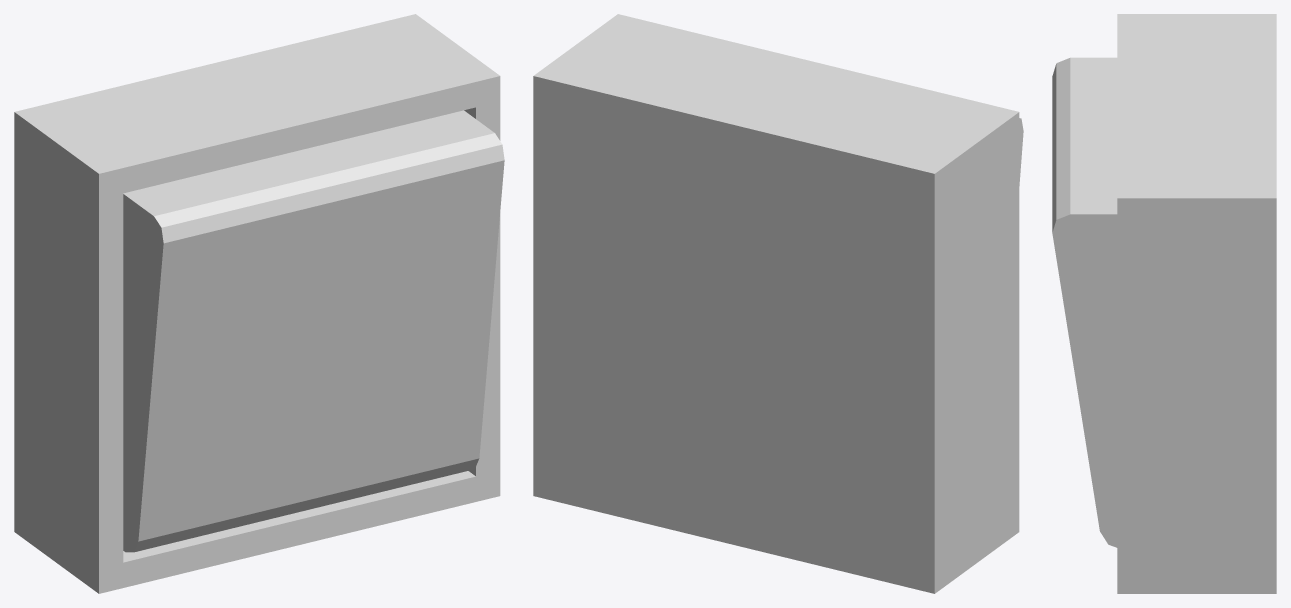
File: SwitchLight_dra.glb
3 renders of one model, left to right at view 1: azimuth 30°, elevation 25°; view 2: azimuth 150°, elevation 25°; view 3: azimuth 270°, elevation 25°, orthographic. The views are drawn at different scales.
Parts seen in each view (by area): view 1: SwitchLight; view 2: SwitchLight; view 3: SwitchLight.
Boxes of the visible parts, x1,y1,x2,y2 form: SwitchLight: (14,14,504,593); SwitchLight: (533,14,1023,593); SwitchLight: (1052,14,1276,593).
Size of the model in its own units: 0.1089 by 0.1089 by 0.056.
1 material, 1 textured.
